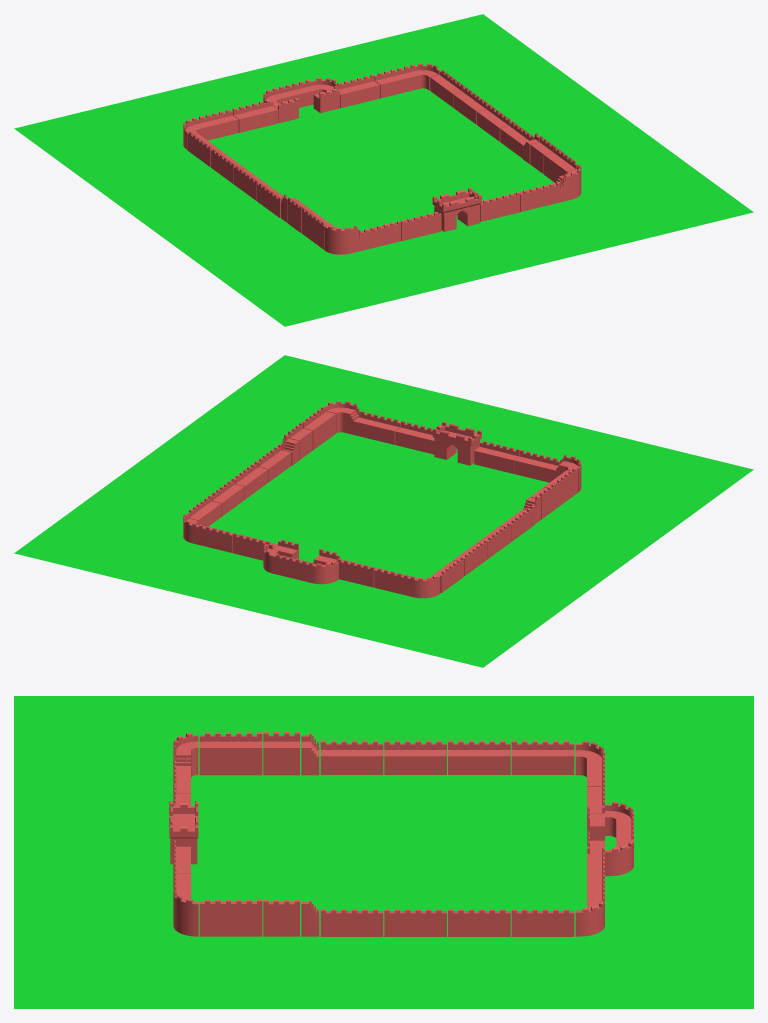
File: map2.glb
The picture shows the model from 3 angles, top to bottom: view 1: azimuth 30°, elevation 25°; view 2: azimuth 150°, elevation 25°; view 3: azimuth 270°, elevation 25°; orthographic projection. The views are drawn at different scales.
Visible parts, largest first — view 1: Plane, WallL; view 2: Plane, WallL; view 3: Plane, WallL.
Boxes of the visible parts, x1=… form: Plane: x1=14, y1=14, x2=753, y2=326; WallL: x1=183, y1=63, x2=581, y2=254; Plane: x1=14, y1=355, x2=753, y2=667; WallL: x1=183, y1=400, x2=581, y2=598; Plane: x1=14, y1=696, x2=753, y2=1008; WallL: x1=169, y1=732, x2=633, y2=936.
Bounding box in the file's own units: 100 × 5.82 × 100.
